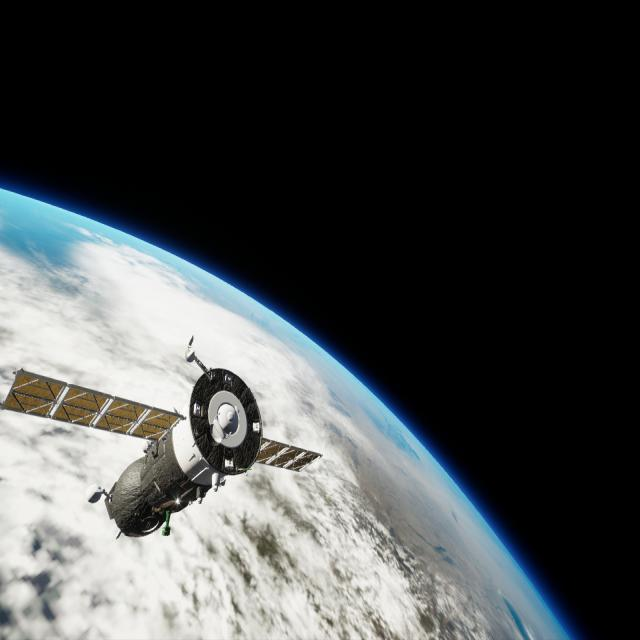Satellites revolving around earth: (1, 332, 323, 540)
